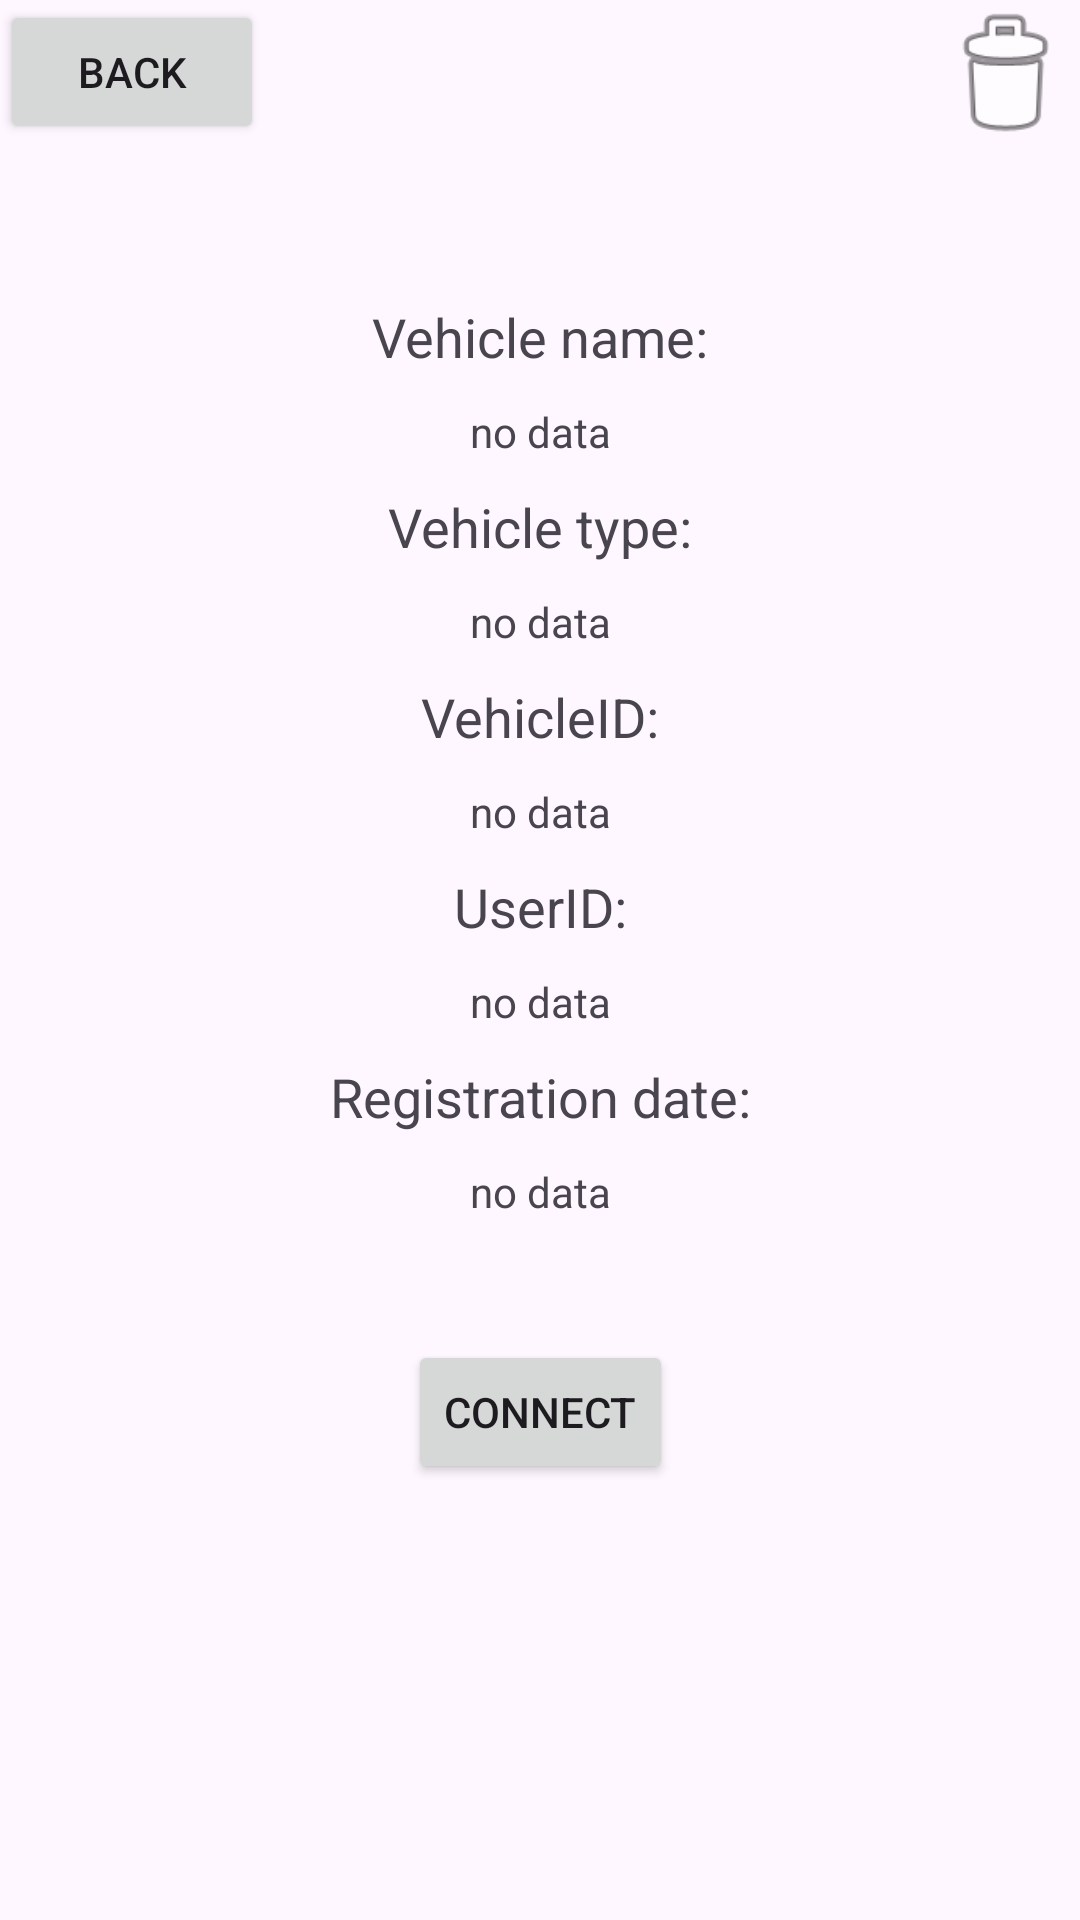

Where icons sit on this 1080×1920 app screen, as (x1,y1,x2,y2):
delete: (963,14,1048,131)
